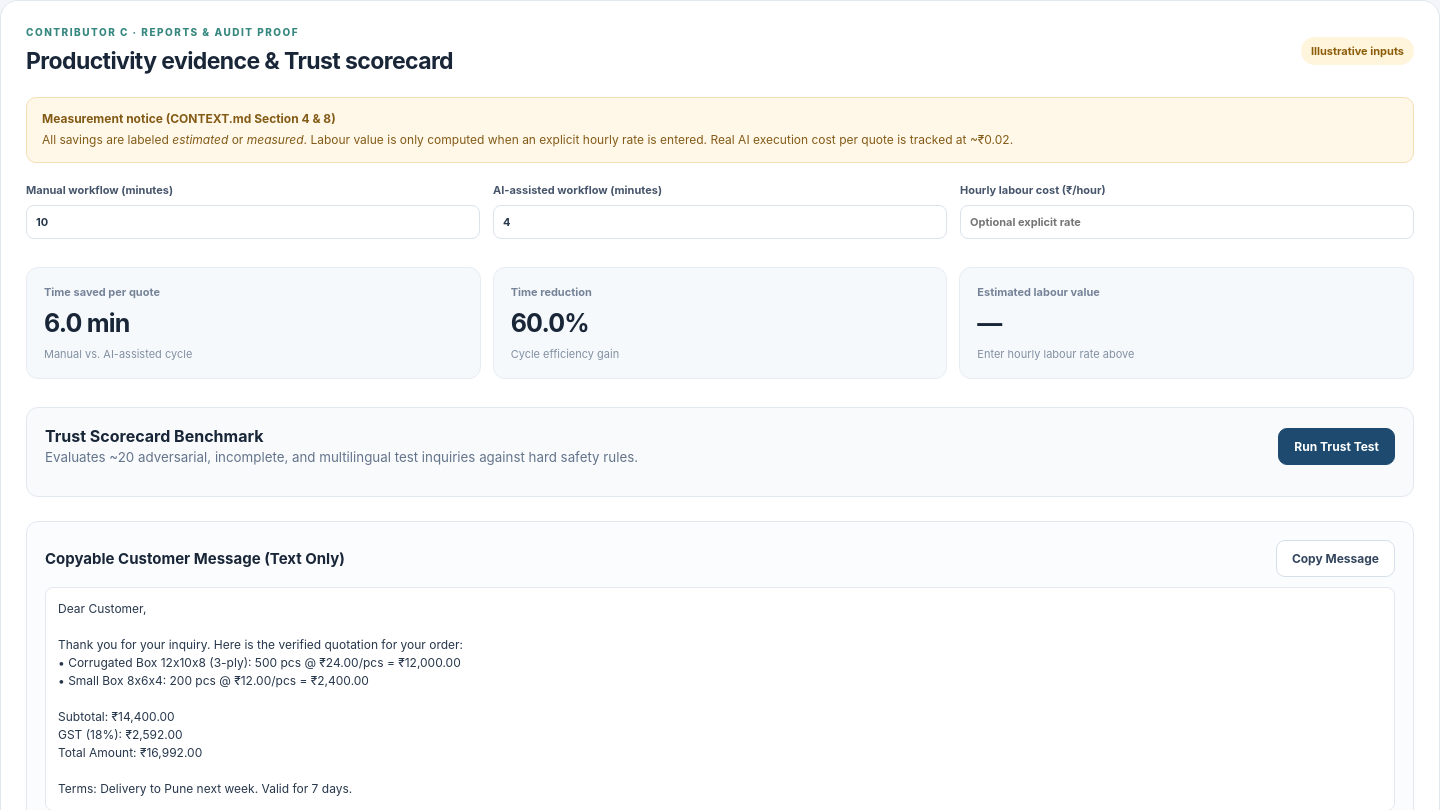
Test: calculates labour value when explicit hourly rate is entered
Type "600" into the number field with placeholder "Optional explicit rate".
click(1187, 222); type("600")  # box [960,205,1414,239]
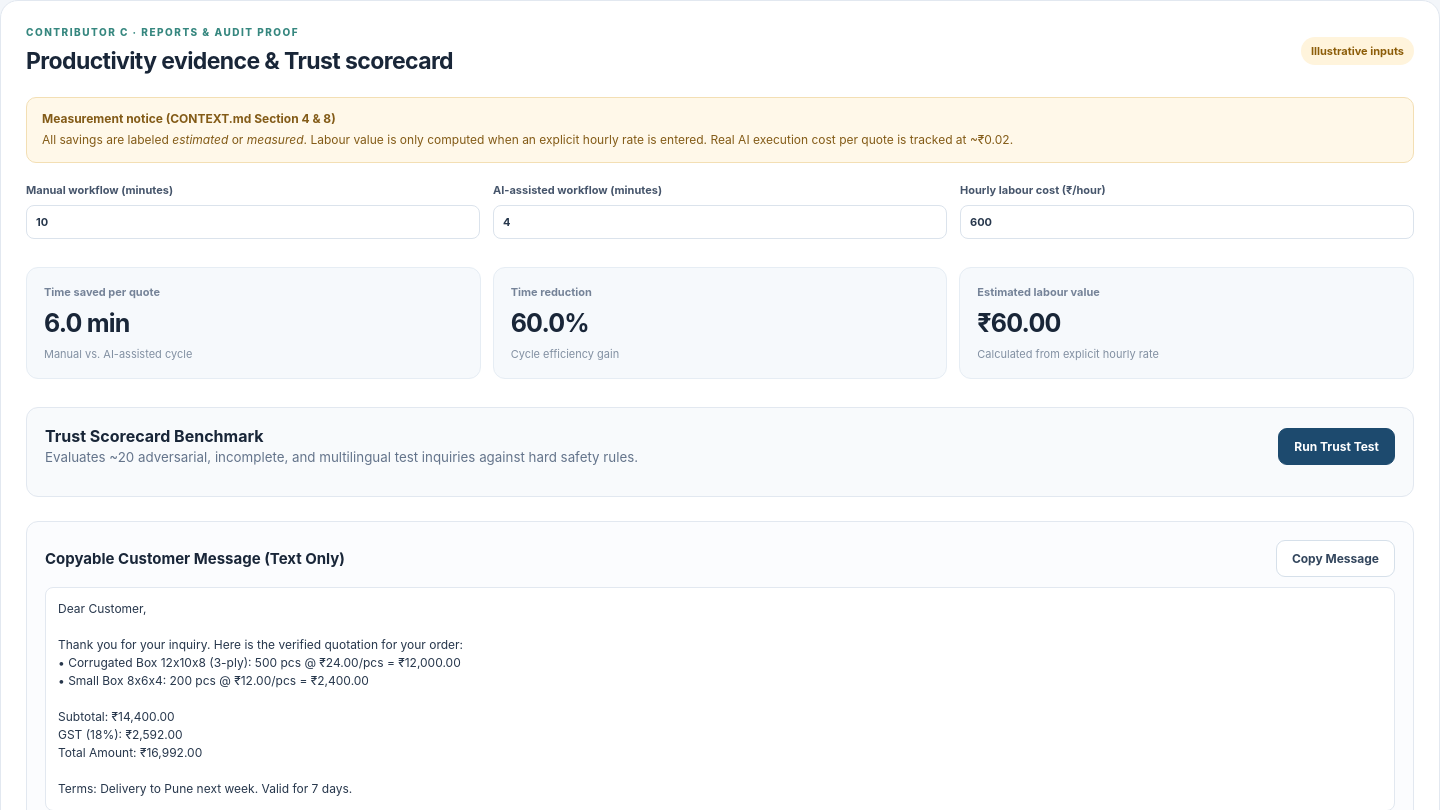
Expected: the text "₹60.00" is shown, [977,308,1060,338]
